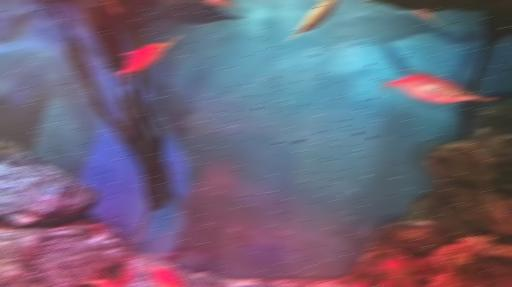Fish: (383, 70, 494, 103), (114, 35, 179, 83), (288, 0, 338, 40), (143, 264, 184, 286), (384, 259, 415, 286), (206, 0, 243, 12), (413, 9, 440, 25), (88, 273, 118, 286), (106, 0, 119, 14), (380, 279, 393, 286), (355, 281, 365, 286)
